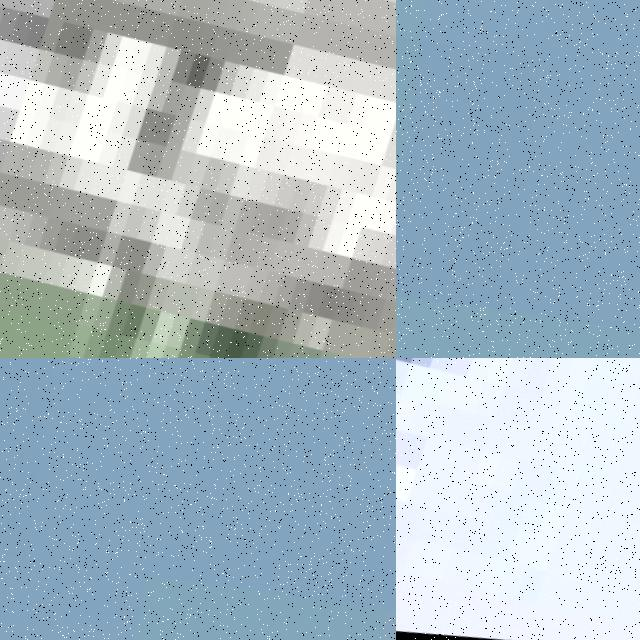0: (0, 0, 396, 358)
drone: (396, 358, 640, 640)
